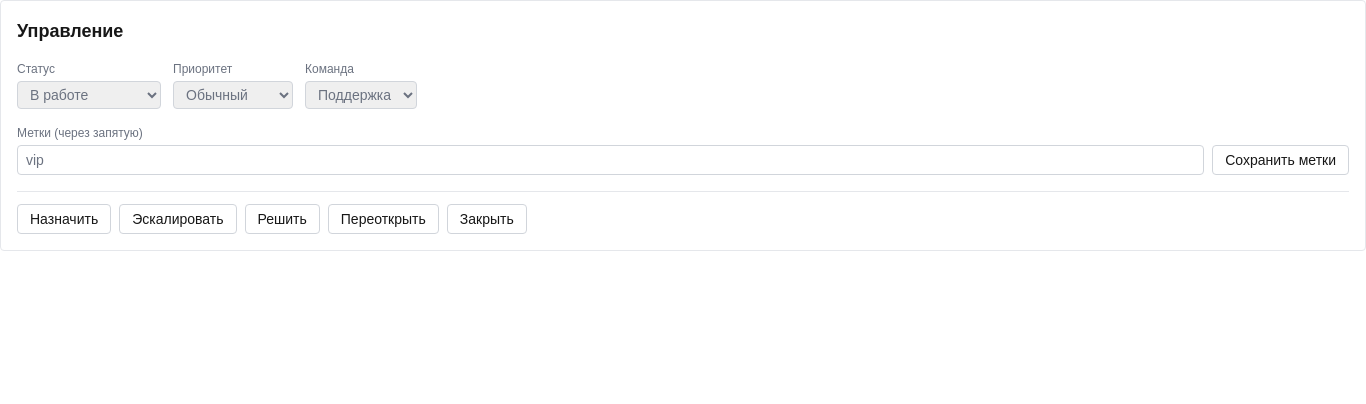
it: TicketActions — ошибки (409/422) › 409 (конфликт) на действии → алерт
Click the button "Эскалировать": [178, 219] box [119,204,236,234]
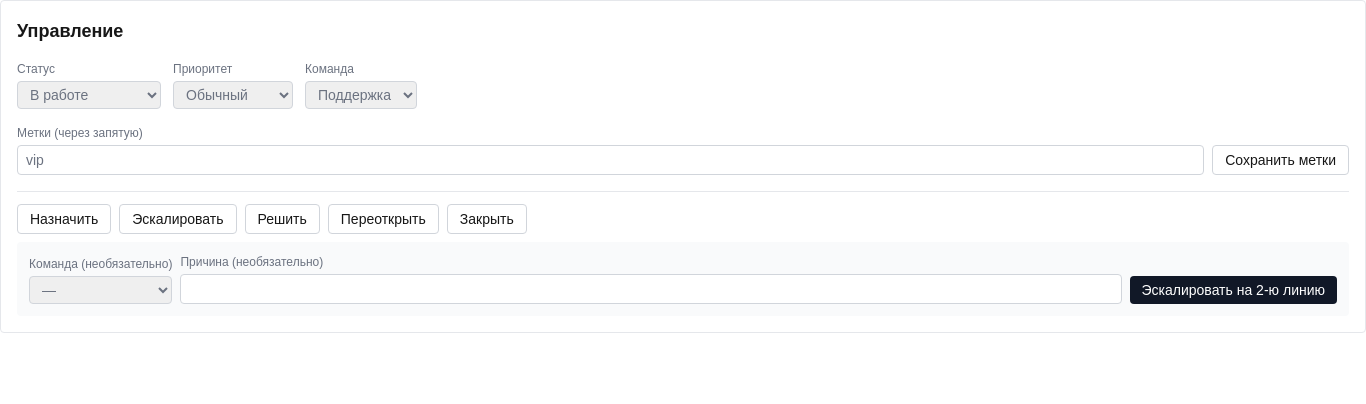
Click the button "Эскалировать на 2-ю линию": [1233, 290] box [1130,276,1337,304]
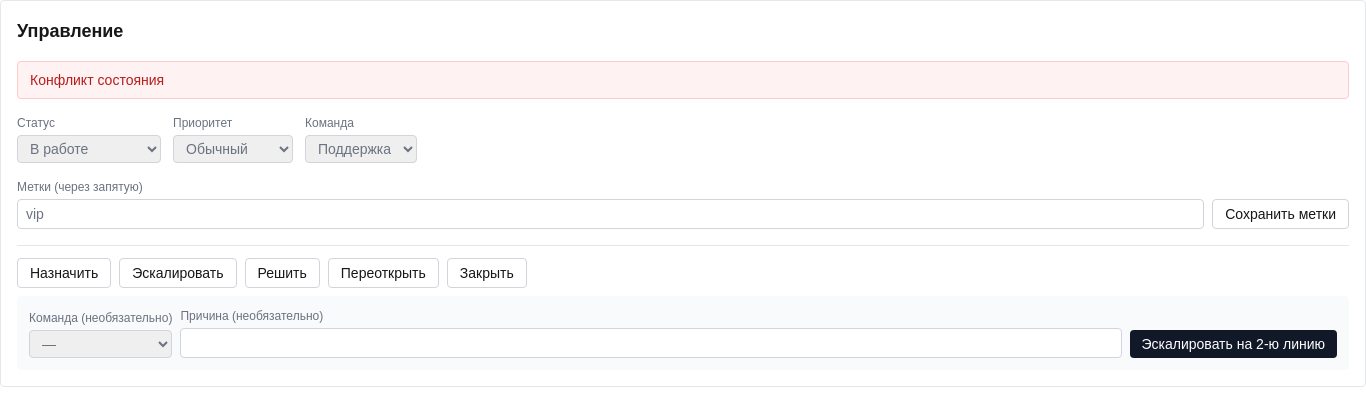
Check: the message reads "Конфликт состояния", box [30,72,164,88]
